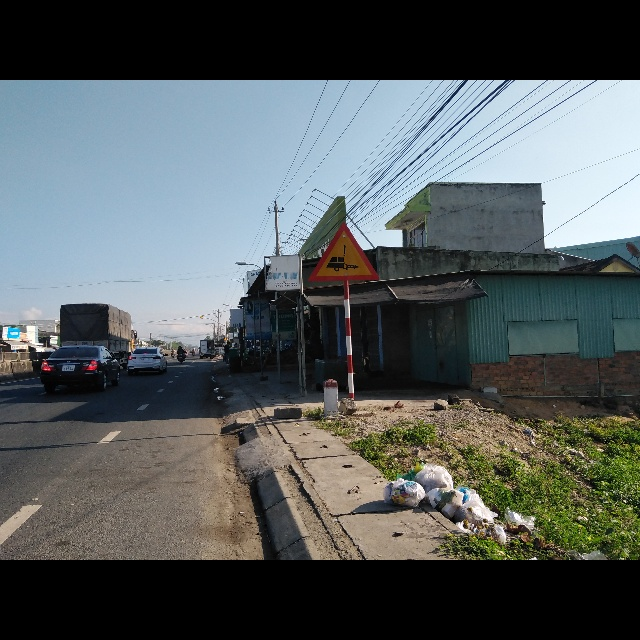Khu đông dân cư: (307, 218, 381, 286)
